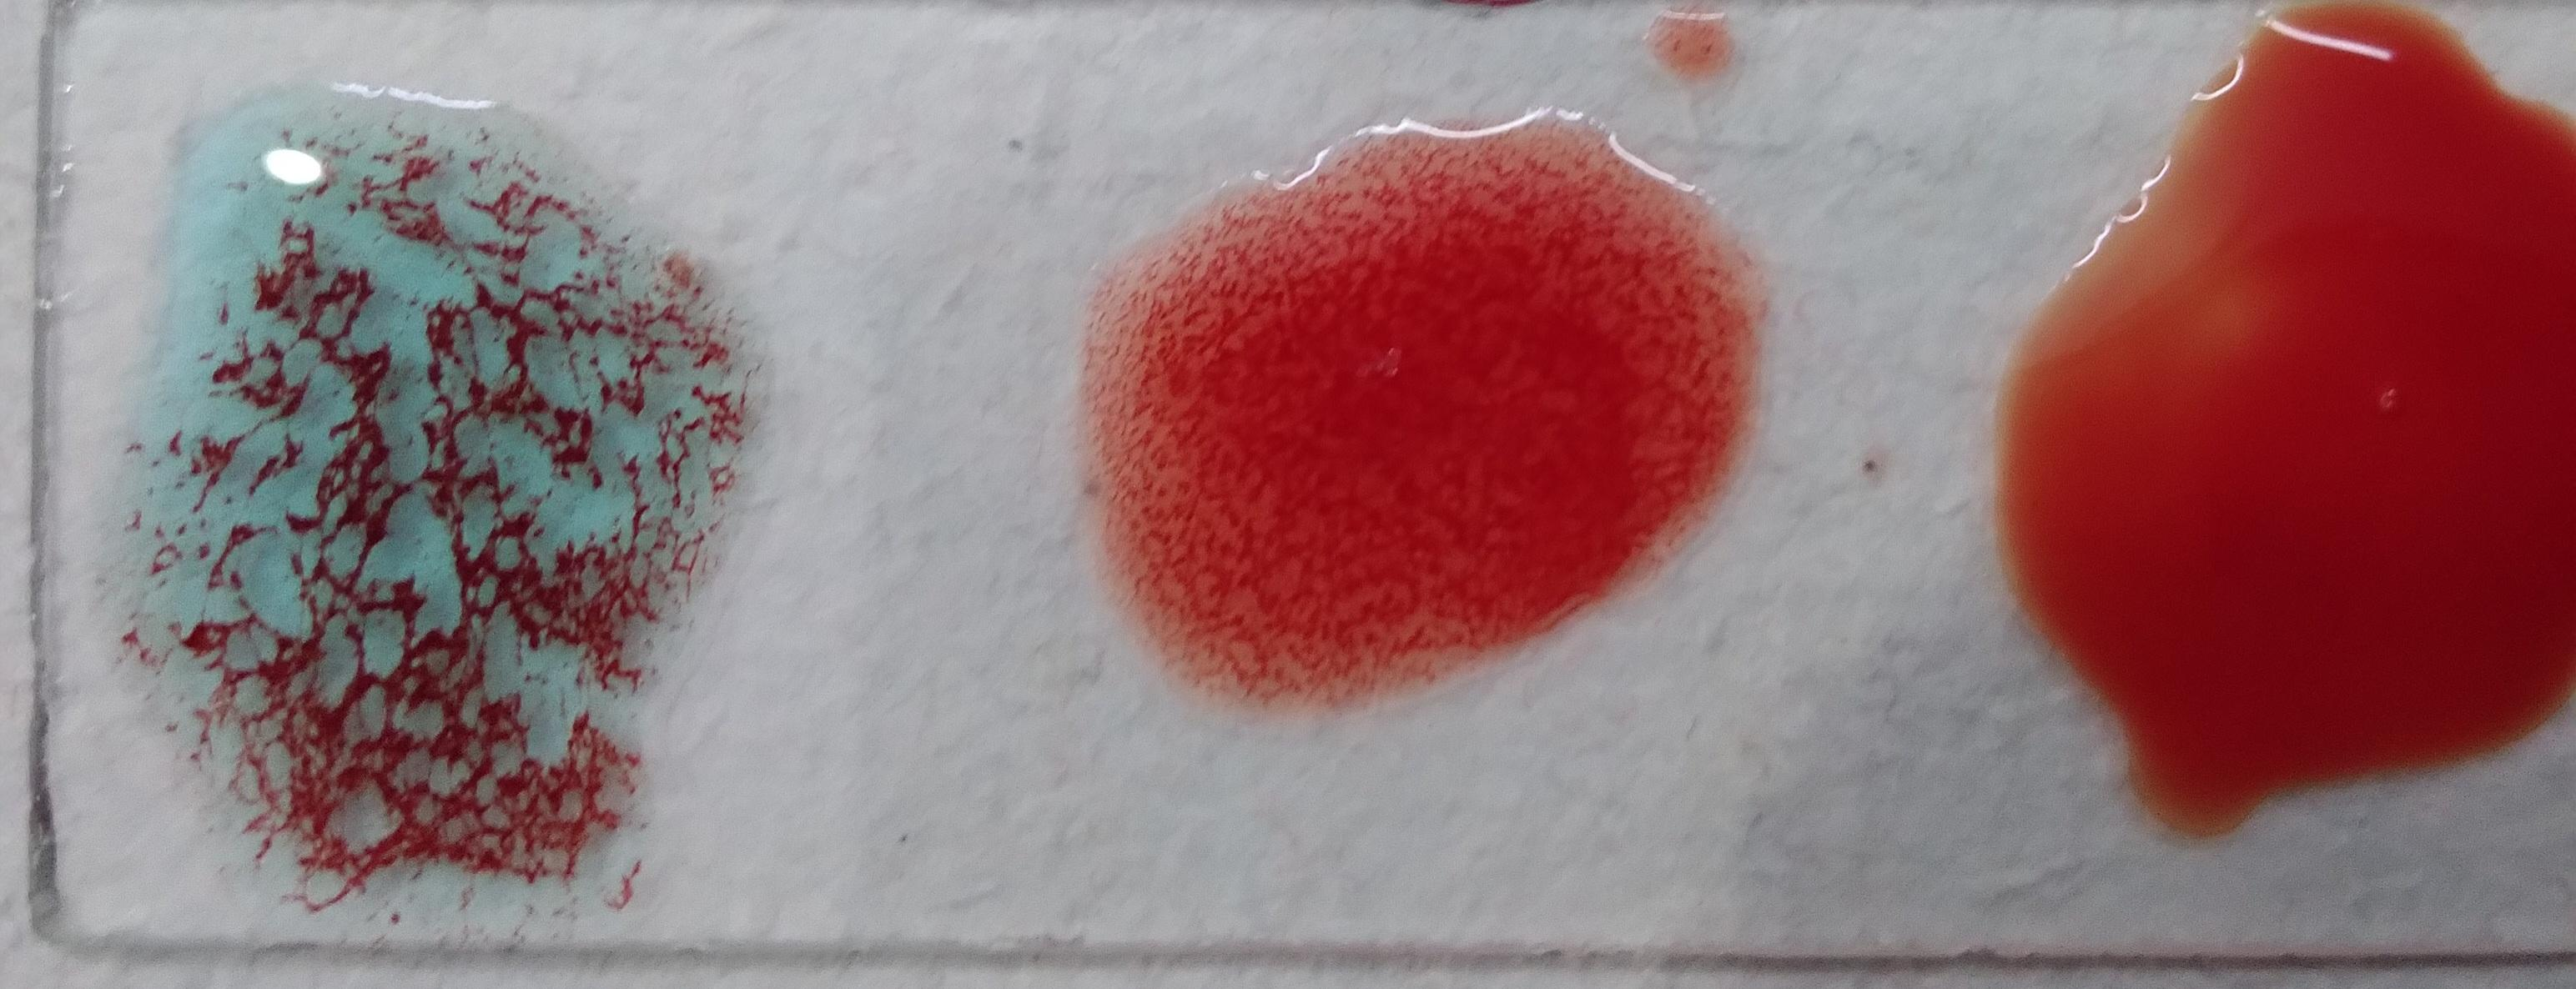A: (1850, 100, 2430, 871)
D: (826, 276, 1492, 871)
